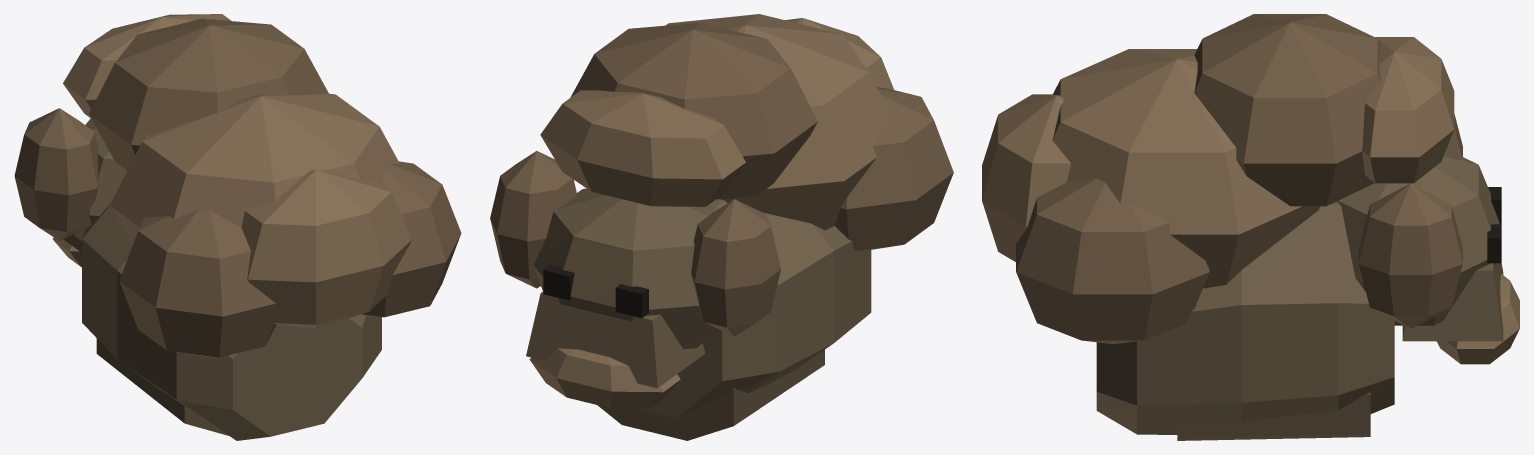
Rendered from animal_dryad_woodmaker_bones.obj.
3 views of the same model, side by side, from view 1: azimuth 30°, elevation 25°; view 2: azimuth 150°, elevation 25°; view 3: azimuth 270°, elevation 25° (orthographic). The views are drawn at different scales.
Size of the model in its own units: 0.7014 by 0.8009 by 0.9723.
